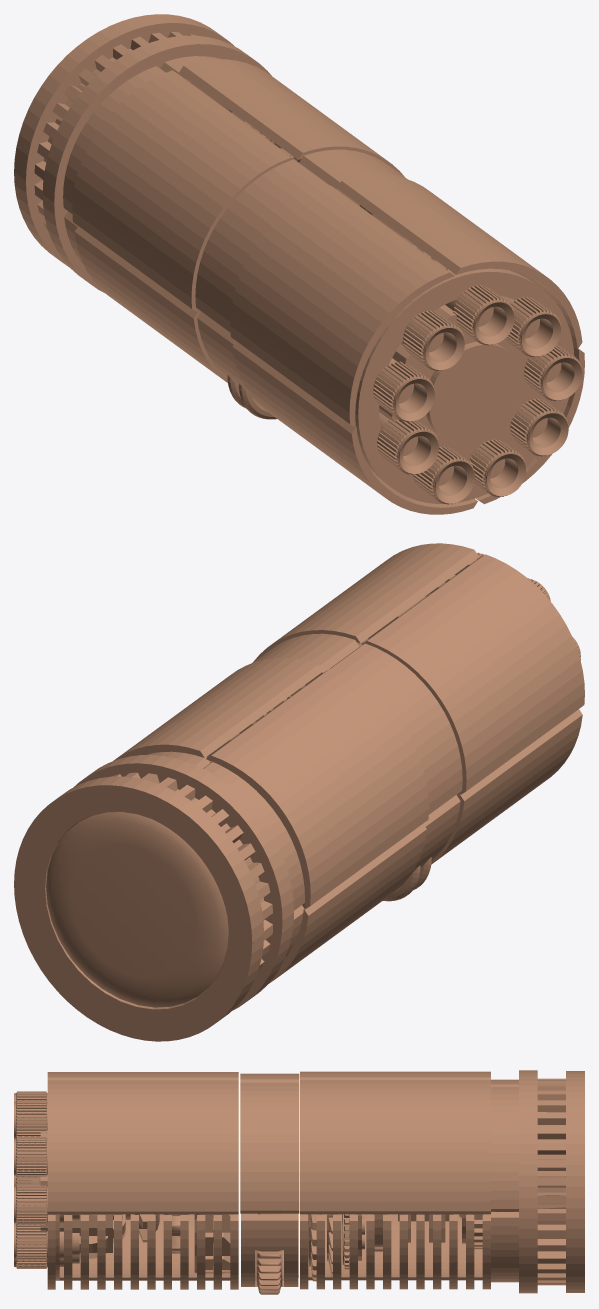
The model's file is edhway1.glb.
3 renders of one model, top to bottom at view 1: azimuth 30°, elevation 25°; view 2: azimuth 150°, elevation 25°; view 3: azimuth 270°, elevation 25°, orthographic. The views are drawn at different scales.
Visible parts, largest first — view 1: gear_12, shell_bl_3, shell_bl_1, cap_1, shell_2, shell_br_3, shell_br_1, shell_tl_3, shell_tl_1, cap_bl, shell_tr_3; view 2: cap_1, shell_bl_1, shell_bl_3, shell_2, shell_br_1, shell_br_3, shell_tl_1, shell_tl_3, cap_bl; view 3: shell_br_3, shell_br_1, cap_1, shell_2, shell_tr_1, shell_tr_3, gear_12, shell_tl_1, cap_br, shell_tl_3, cap_tr, shell_bl_3 (+10 smaller).
Boxes of the visible parts, <box> form: gear_12: <box>355,268,582,504</box>; shell_bl_3: <box>230,185,454,427</box>; shell_bl_1: <box>72,70,296,312</box>; cap_1: <box>14,14,274,292</box>; shell_2: <box>195,149,406,419</box>; shell_br_3: <box>337,174,582,349</box>; shell_br_1: <box>179,59,404,176</box>; shell_tl_3: <box>232,341,477,514</box>; shell_tl_1: <box>74,226,227,382</box>; cap_bl: <box>63,66,165,213</box>; shell_tr_3: <box>476,346,584,504</box>; cap_1: <box>14,755,293,1041</box>; shell_bl_1: <box>206,669,428,909</box>; shell_bl_3: <box>362,554,584,794</box>; shell_2: <box>251,633,462,901</box>; shell_br_1: <box>113,658,322,760</box>; shell_br_3: <box>253,543,478,661</box>; shell_tl_1: <box>268,824,426,983</box>; shell_tl_3: <box>431,709,582,864</box>; cap_bl: <box>203,762,304,910</box>; shell_br_3: <box>47,1080,238,1214</box>; shell_br_1: <box>300,1080,490,1214</box>; cap_1: <box>519,1070,584,1293</box>; shell_2: <box>240,1073,299,1286</box>; shell_tr_1: <box>300,1214,490,1289</box>; shell_tr_3: <box>47,1215,238,1289</box>; gear_12: <box>14,1091,130,1280</box>; shell_tl_1: <box>300,1214,482,1280</box>; cap_br: <box>491,1086,518,1211</box>; shell_tl_3: <box>56,1214,238,1280</box>; cap_tr: <box>484,1212,518,1282</box>; shell_bl_3: <box>47,1072,238,1080</box>.
Bounding box in the file's own units: 38.97 × 39.03 × 99.84.
